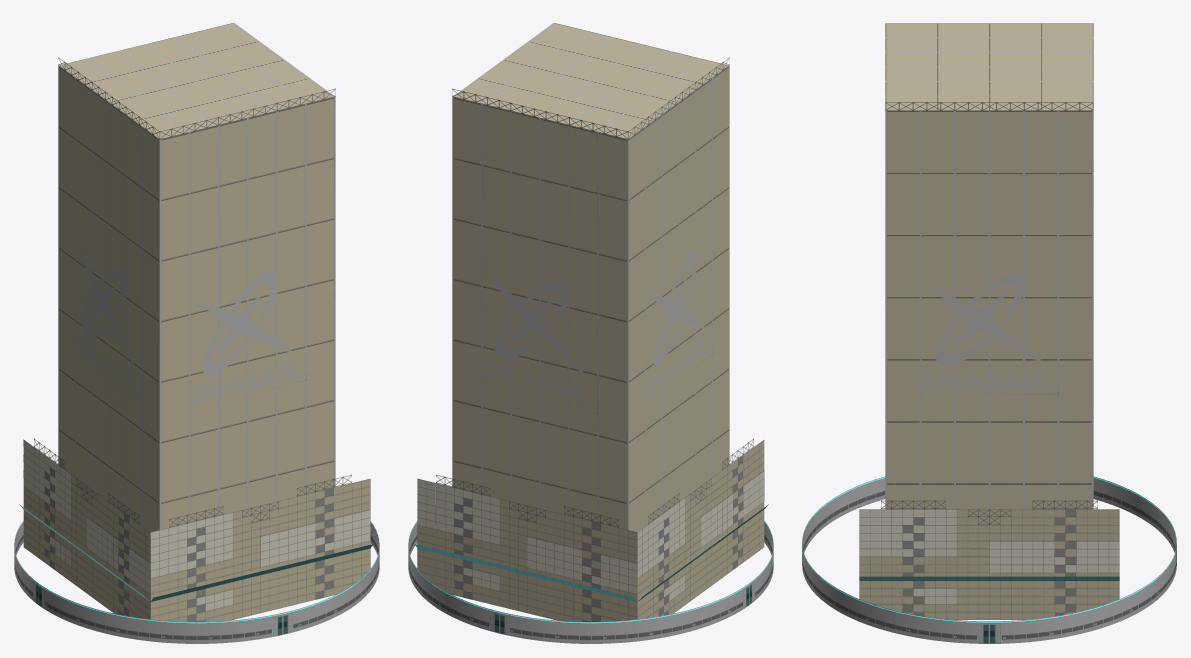
File: t1_b_enclosure_c.glb
3 views of the same model, side by side, from view 1: azimuth 30°, elevation 25°; view 2: azimuth 150°, elevation 25°; view 3: azimuth 270°, elevation 25° (orthographic). The views are drawn at different scales.
Visible parts, largest first — view 1: outer, nomerge_t1_b_enclosure_b_mid, nomerge_t1_b_enclosure_a_outer, nomerge_trans_logo, nomerge_t1_b_enclosure_b_trans_cross; view 2: outer, nomerge_t1_b_enclosure_b_mid, nomerge_t1_b_enclosure_a_outer, nomerge_trans_logo, nomerge_t1_b_enclosure_b_trans_cross; view 3: outer, nomerge_t1_b_enclosure_b_mid, nomerge_t1_b_enclosure_a_outer, nomerge_trans_logo, nomerge_t1_b_enclosure_a_rev, nomerge_t1_b_enclosure_b_trans_cross.
Boxes of the visible parts, <box> form: outer: <box>58,23,335,573</box>; nomerge_t1_b_enclosure_b_mid: <box>19,439,372,621</box>; nomerge_t1_b_enclosure_a_outer: <box>14,548,379,643</box>; nomerge_trans_logo: <box>75,253,306,405</box>; nomerge_t1_b_enclosure_b_trans_cross: <box>34,57,351,527</box>; outer: <box>452,23,729,552</box>; nomerge_t1_b_enclosure_b_mid: <box>415,440,768,621</box>; nomerge_t1_b_enclosure_a_outer: <box>408,548,773,643</box>; nomerge_trans_logo: <box>482,251,712,408</box>; nomerge_t1_b_enclosure_b_trans_cross: <box>436,57,753,527</box>; outer: <box>885,23,1093,604</box>; nomerge_t1_b_enclosure_b_mid: <box>859,509,1119,619</box>; nomerge_t1_b_enclosure_a_outer: <box>802,543,1176,643</box>; nomerge_trans_logo: <box>921,273,1058,393</box>; nomerge_t1_b_enclosure_a_rev: <box>802,476,1176,552</box>; nomerge_t1_b_enclosure_b_trans_cross: <box>881,102,1097,524</box>.
Bounding box in the file's own units: 128 × 191 × 128.
Materials: 3 (3 with a texture image).
